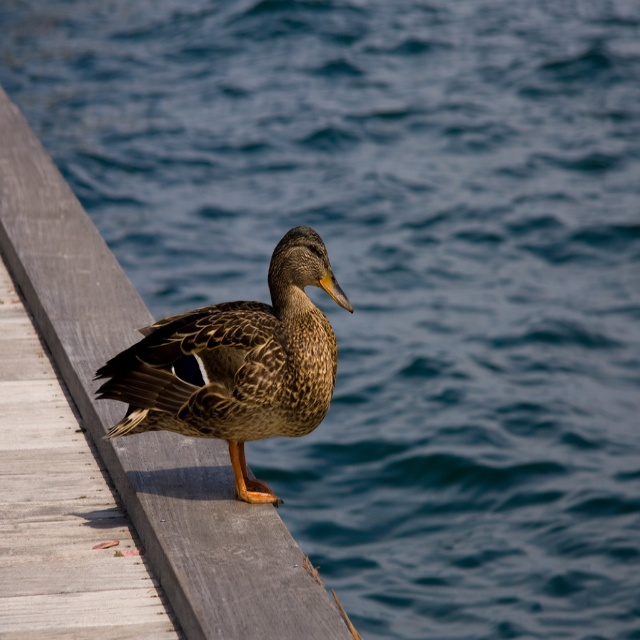Duck: (91, 226, 354, 509)
